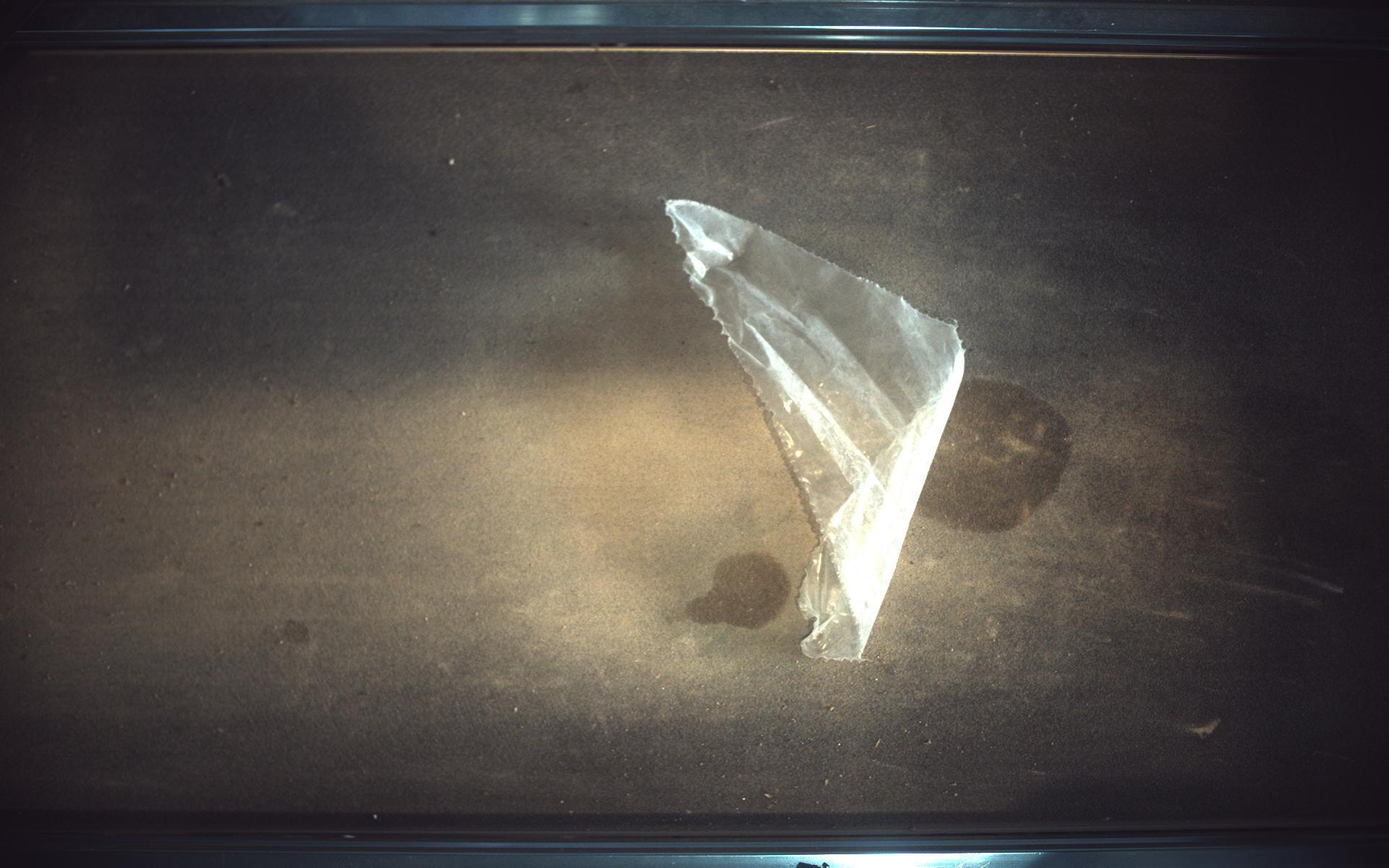general_w: (667, 200, 967, 660)
